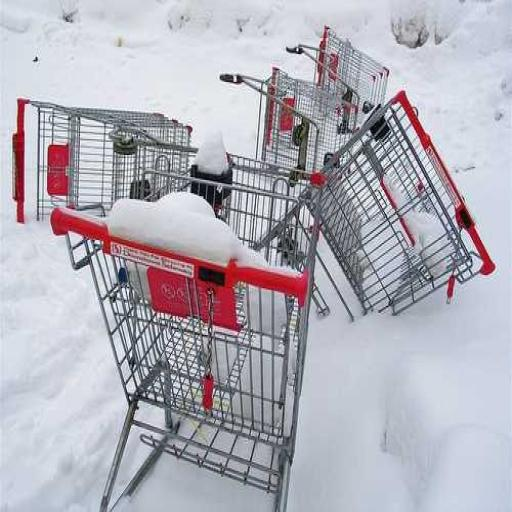shopping_cart: (49, 148, 325, 512), (239, 88, 500, 324), (11, 94, 194, 234), (218, 60, 362, 182), (286, 25, 392, 131)
